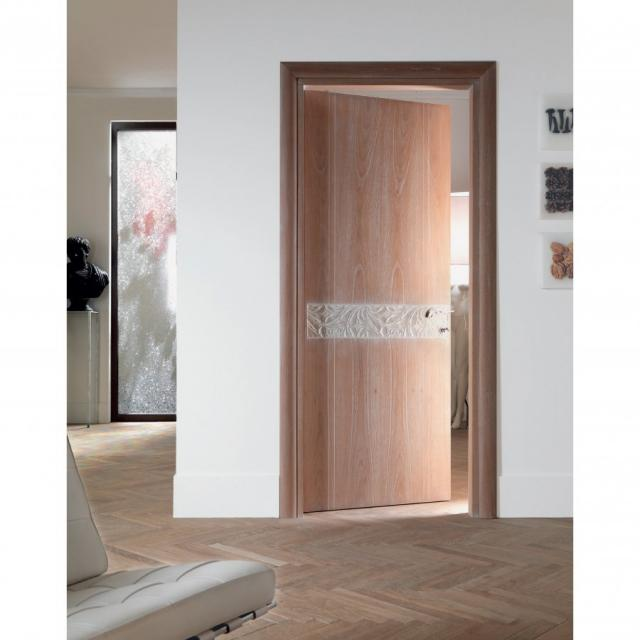open: (288, 74, 494, 524)
